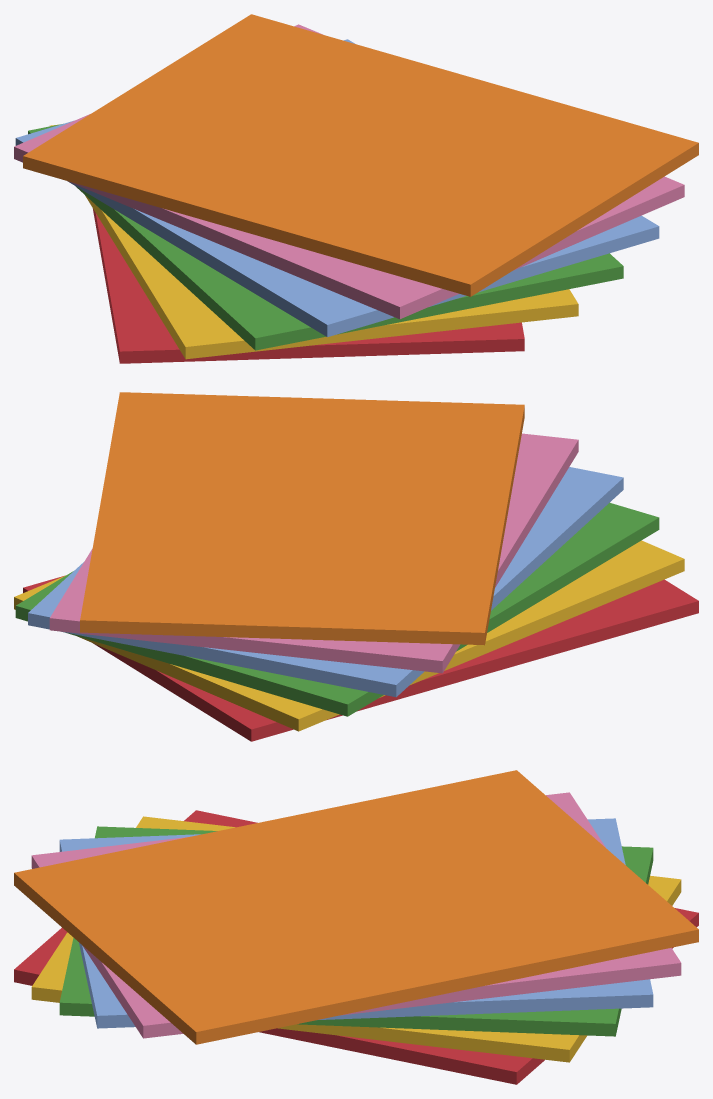
File: colored_paper.glb
3 renders of one model, top to bottom at view 1: azimuth 30°, elevation 25°; view 2: azimuth 150°, elevation 25°; view 3: azimuth 270°, elevation 25°, orthographic. The views are drawn at different scales.
Visible parts, largest first — view 1: root; view 2: root; view 3: root.
Boxes of the visible parts, x1=… form: root: x1=14, y1=14, x2=698, y2=363; root: x1=14, y1=392, x2=698, y2=741; root: x1=14, y1=770, x2=698, y2=1084.
Size of the model in its own units: 0.4941 by 0.065 by 0.4907.
